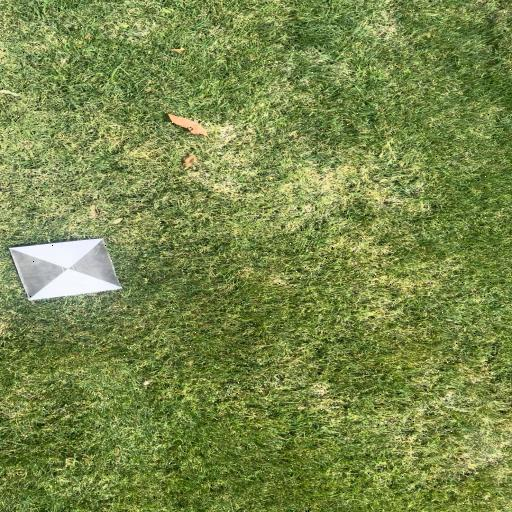target: (11, 238, 123, 301)
